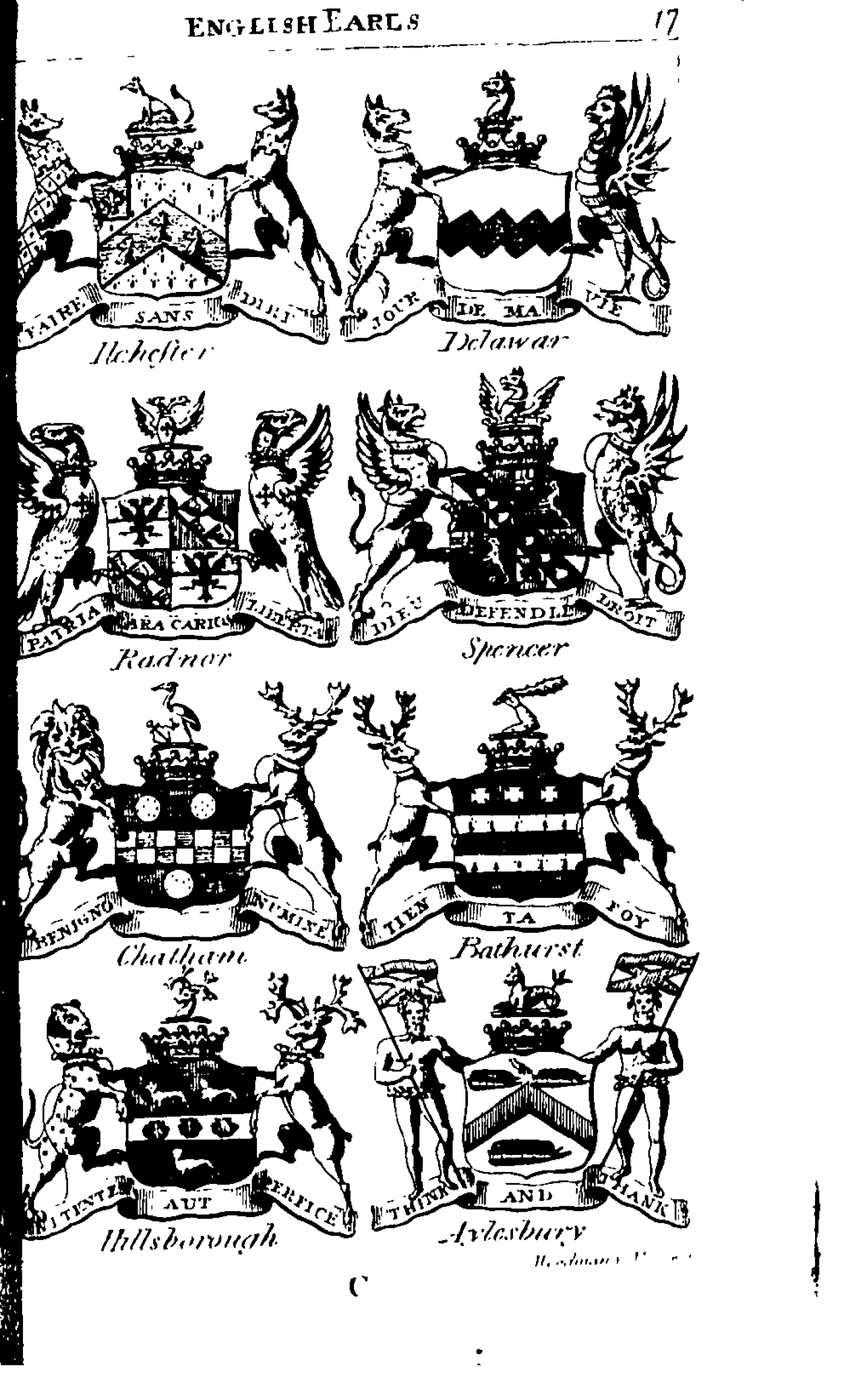coat_of_arms: (17, 962, 370, 1258), (336, 55, 674, 360), (347, 354, 685, 659), (360, 951, 699, 1253), (14, 66, 335, 372), (11, 379, 345, 669), (18, 684, 355, 969), (357, 673, 696, 955)
